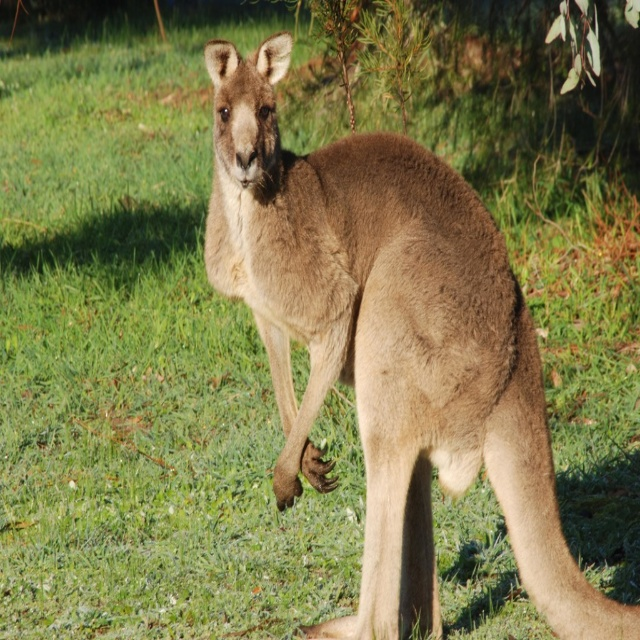Kangaroo: (204, 32, 640, 640)
